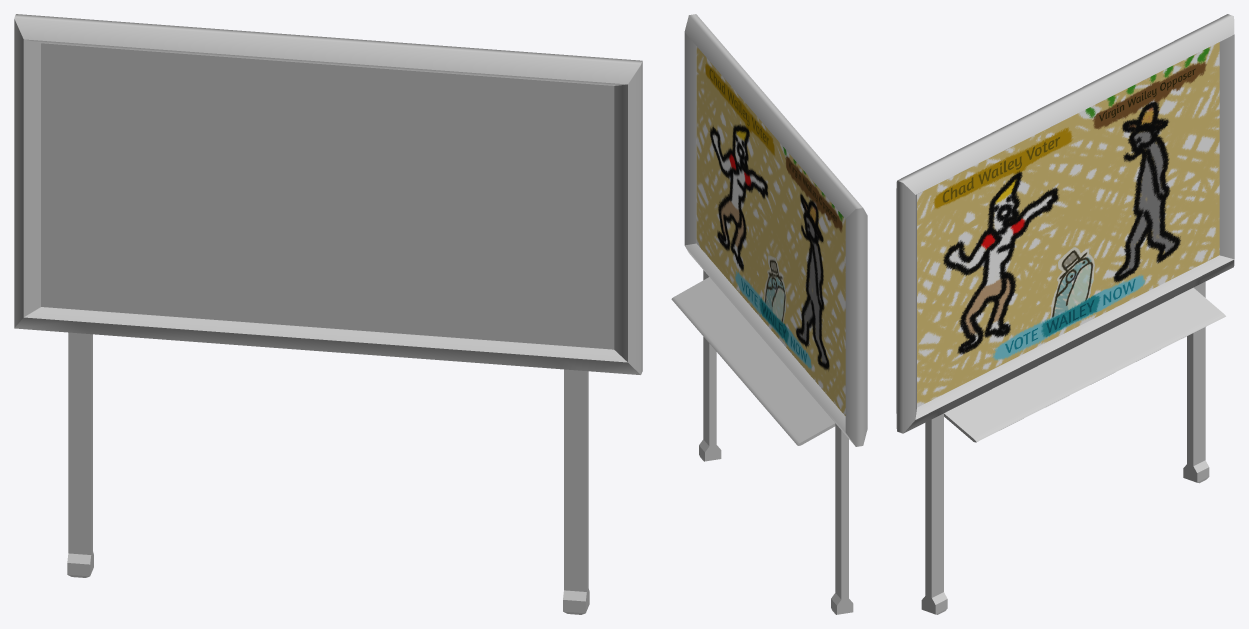
The model's file is BILL_BOARD_-PROPAGANDA.fbx.
The picture shows the model from 3 angles, left to right: view 1: azimuth 30°, elevation 25°; view 2: azimuth 150°, elevation 25°; view 3: azimuth 270°, elevation 25°; orthographic projection. The views are drawn at different scales.
Visible parts, largest first — view 1: Cube.036; view 2: Cube.037, Cube.036; view 3: Cube.037, Cube.036.
Part boxes in pixels (box(x1,y1,x2,y2)): Cube.036: box(14, 14, 642, 614); Cube.037: box(696, 46, 845, 415); Cube.036: box(671, 14, 867, 614); Cube.037: box(917, 42, 1219, 407); Cube.036: box(896, 14, 1234, 614).
Bounding box in the file's own units: 652 × 804 × 552.
